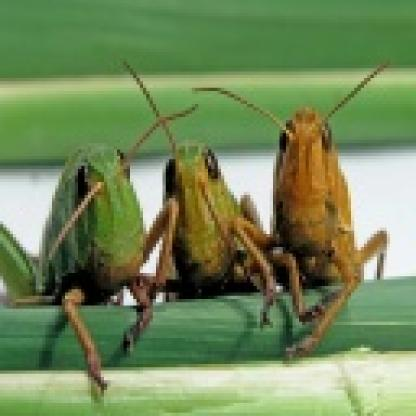grasshopper: (2, 134, 174, 310), (259, 101, 398, 285), (141, 127, 282, 292)
